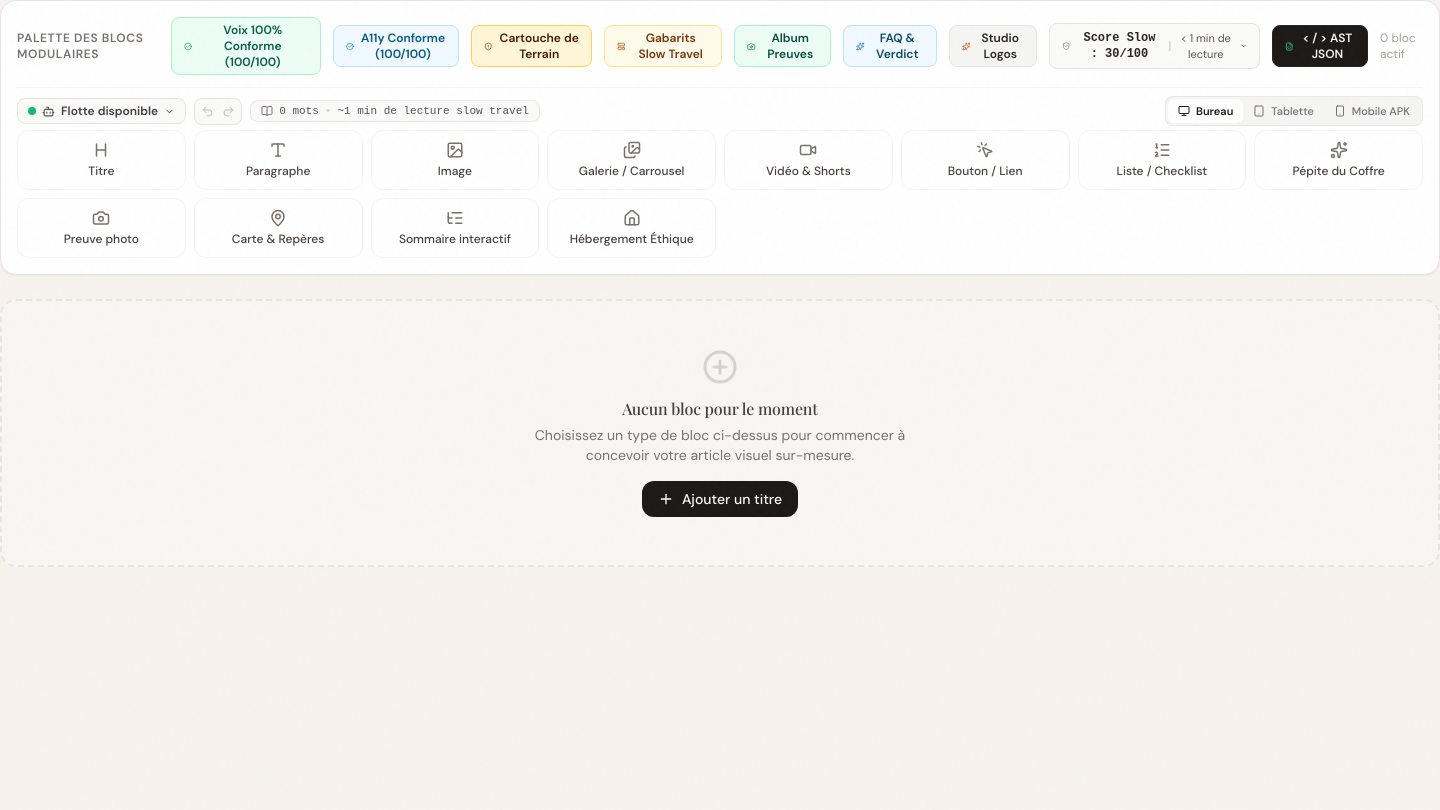
BlockCanvas UI & Interactivity (__tests__/components/BlockCanvas.test.tsx) › ouvre le modal des gabarits Slow Travel lors du clic sur le bouton de la palette
Click the button "Gabarits Slow Travel": (663, 46) [604,25,722,67]
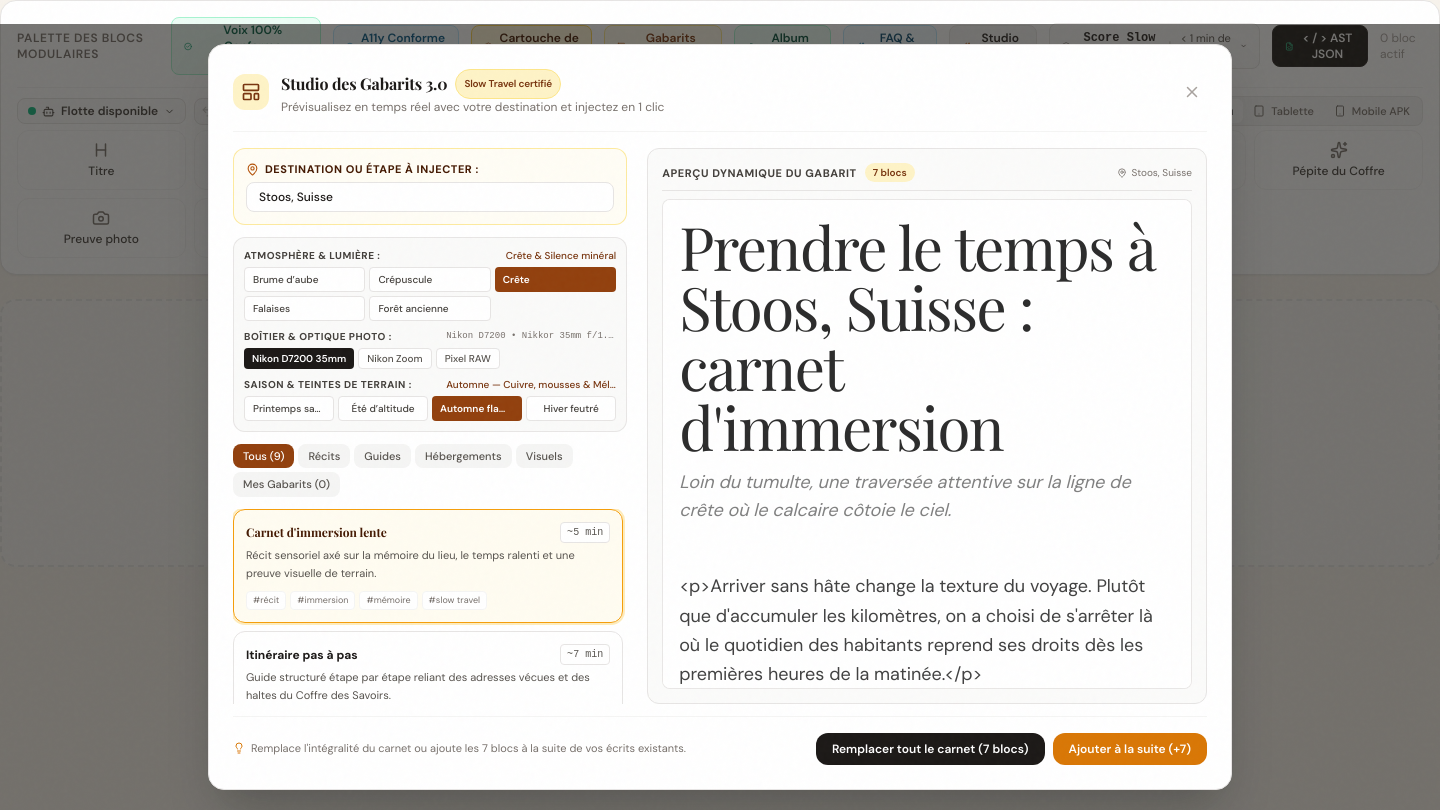
Expected: the text "Studio des Gabarits 3.0" is shown, [281,72,447,96]
Expected: the text "Carnet d'immersion lente" is shown, [246,524,387,540]
